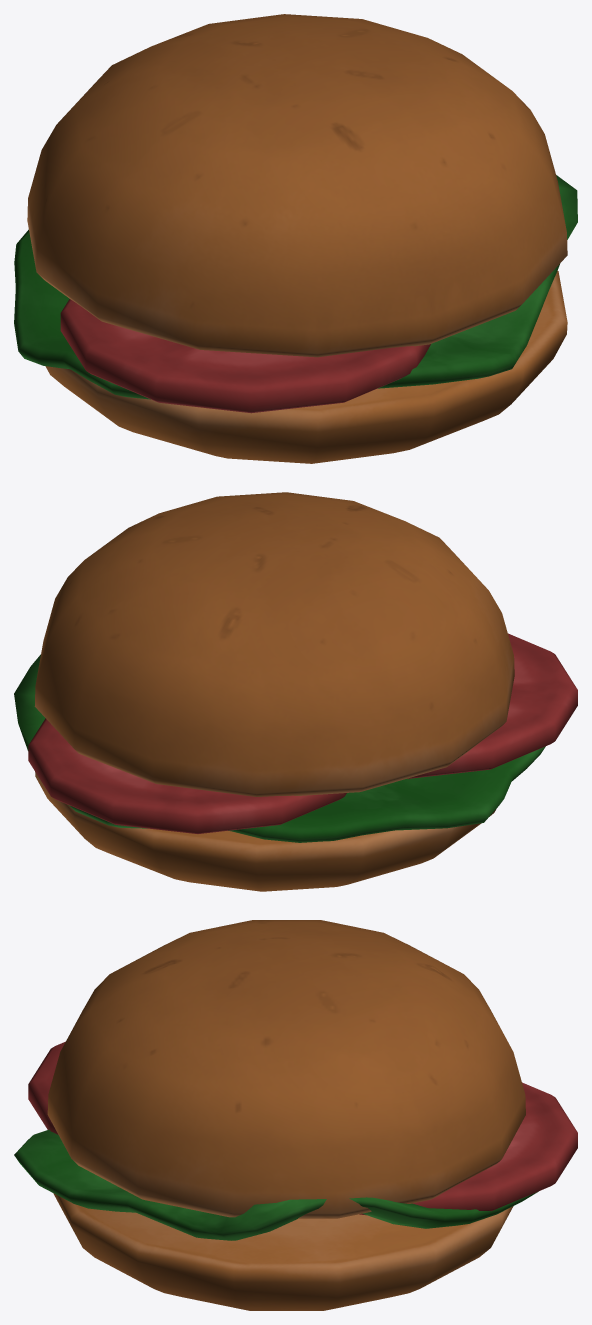
File: MSH_Hamburgiesa_P_L_J.fbx
3 renders of one model, top to bottom at view 1: azimuth 30°, elevation 25°; view 2: azimuth 150°, elevation 25°; view 3: azimuth 270°, elevation 25°, orthographic. The views are drawn at different scales.
Visible parts, largest first — view 1: MSH_Hamburgiesa_P_L_J; view 2: MSH_Hamburgiesa_P_L_J; view 3: MSH_Hamburgiesa_P_L_J.
Part boxes in pixels (left/top/right/bottom): MSH_Hamburgiesa_P_L_J: left=14, top=14, right=577, bottom=463; MSH_Hamburgiesa_P_L_J: left=14, top=492, right=577, bottom=891; MSH_Hamburgiesa_P_L_J: left=14, top=920, right=577, bottom=1310.
Size of the model in its own units: 10.6 by 11.3 by 6.34.
1 material, 1 textured.
